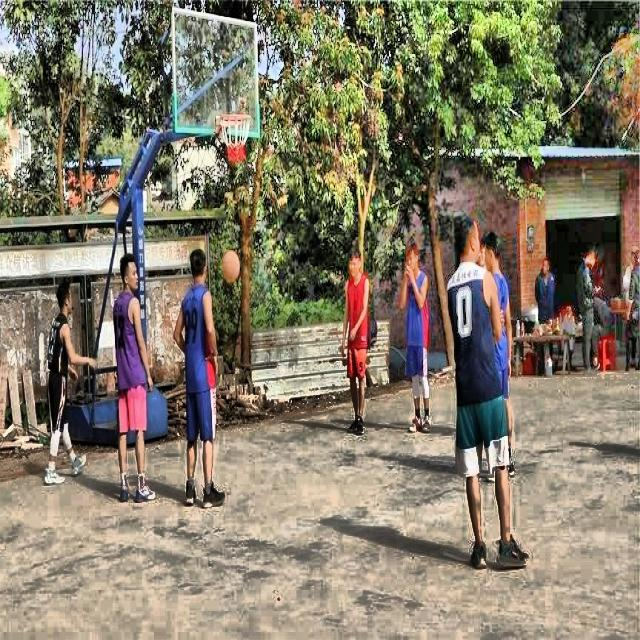rim: (220, 112, 250, 162)
